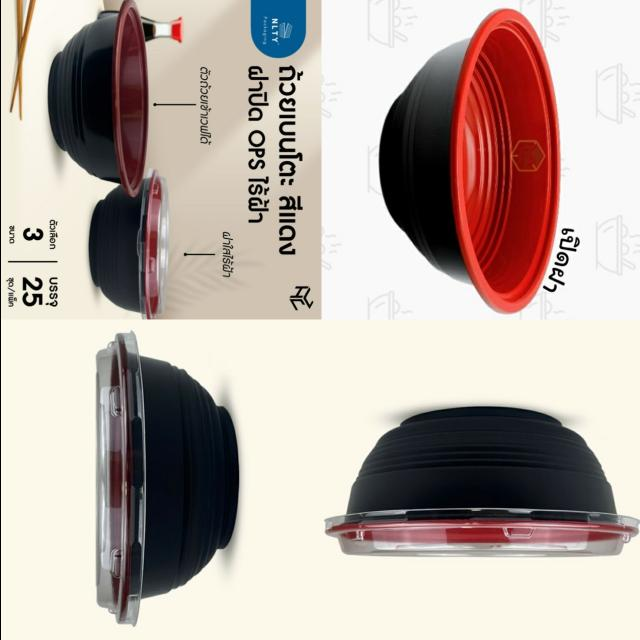plastik: (378, 9, 559, 313), (326, 408, 637, 557), (95, 332, 239, 625), (48, 0, 147, 196), (88, 170, 168, 318)
